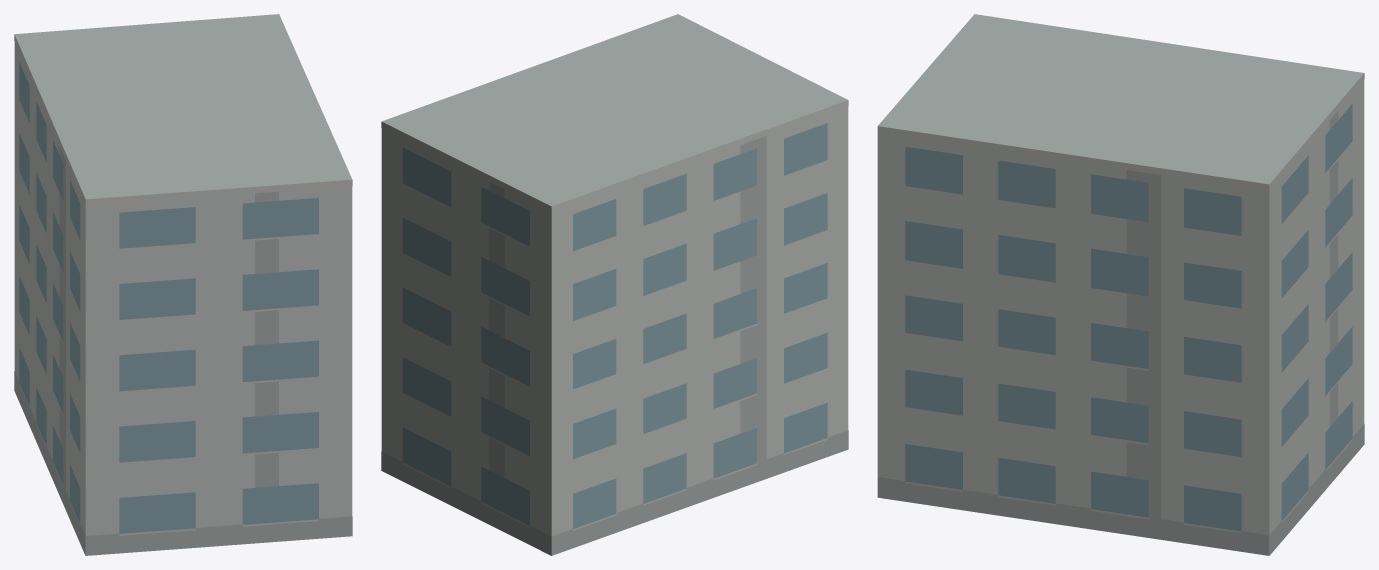
File: survey-upis-32894367.glb
3 views of the same model, side by side, from view 1: azimuth 30°, elevation 25°; view 2: azimuth 150°, elevation 25°; view 3: azimuth 270°, elevation 25° (orthographic). The views are drawn at different scales.
Parts seen in each view (by area): view 1: survey-upis-32894367.tmp; view 2: survey-upis-32894367.tmp; view 3: survey-upis-32894367.tmp.
Part boxes in pixels (x1=…): survey-upis-32894367.tmp: x1=14, y1=14, x2=352, y2=555; survey-upis-32894367.tmp: x1=381, y1=14, x2=848, y2=555; survey-upis-32894367.tmp: x1=877, y1=14, x2=1364, y2=555.
Size of the model in its own units: 13.09 by 13.3 by 15.8.
